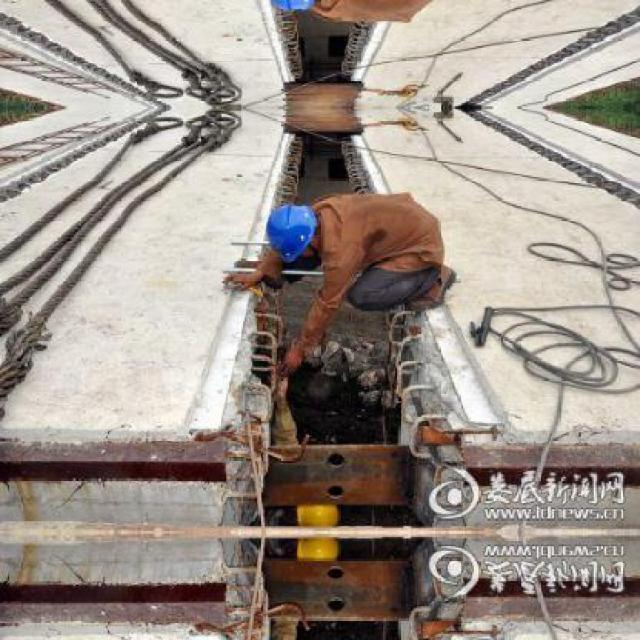helmet: (258, 202, 320, 269)
